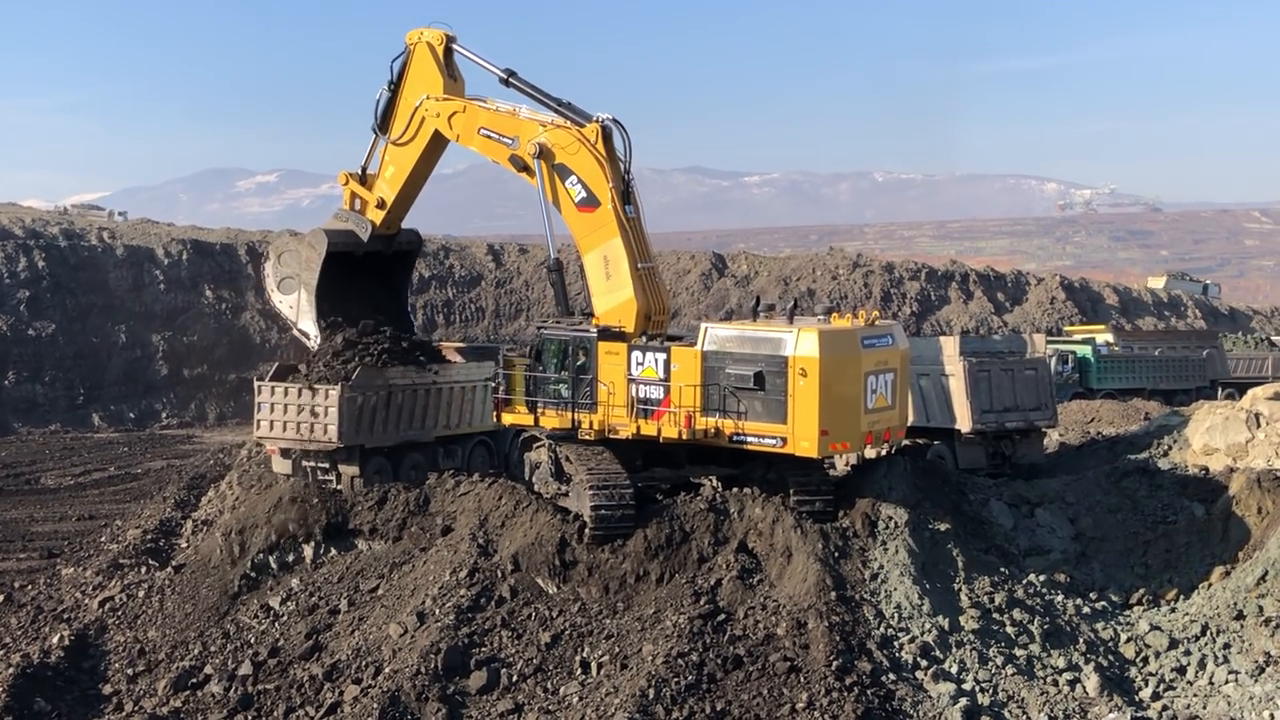full: (255, 208, 425, 346)
